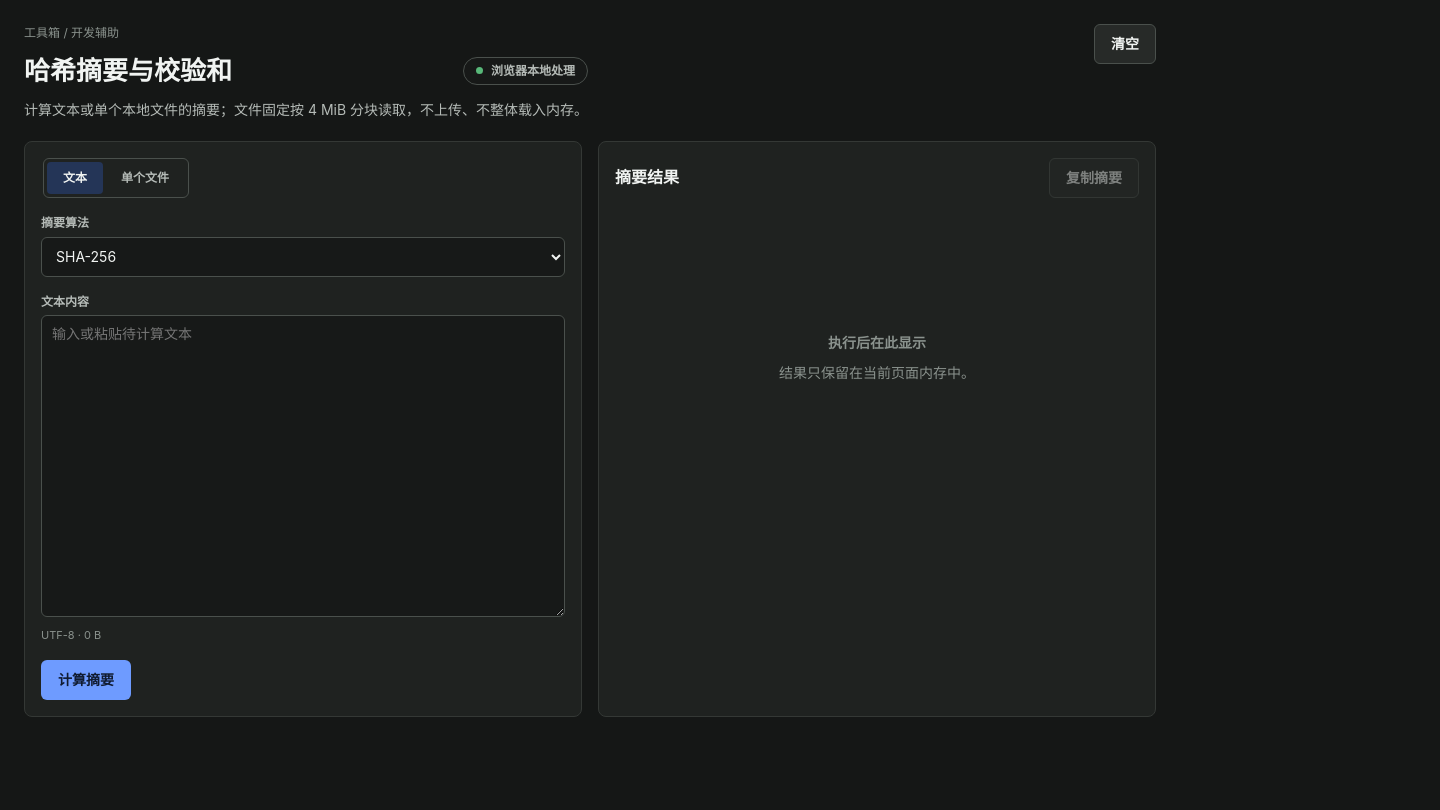
Scenario: DigestToolView keeps keyboard focus on the compute/cancel button › lets the same focused button cancel the run and keeps focus beside the cancel notice
In the text box with id "digest-text": (303,466) 41,315 -> 565,617, type "abc"
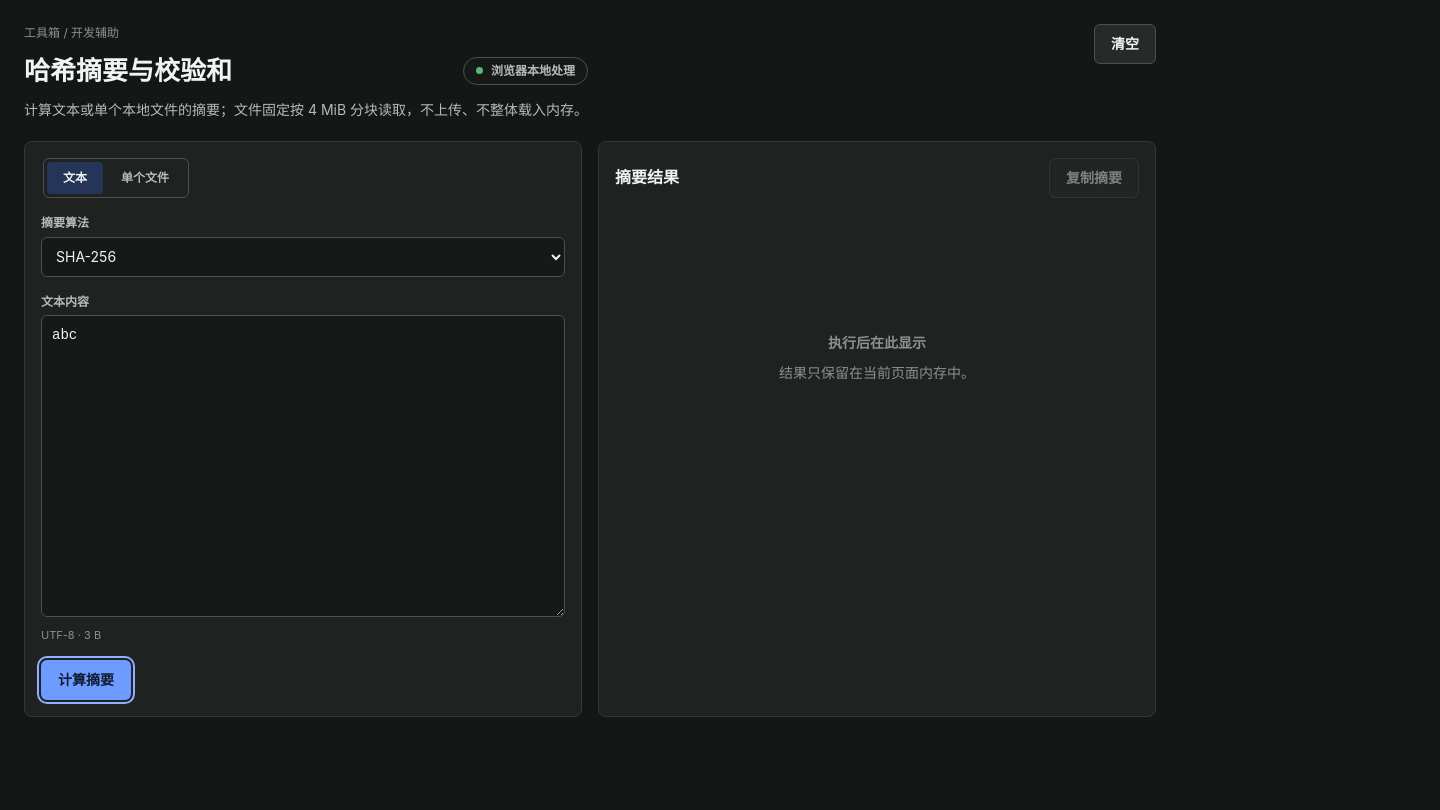
Click the button "计算摘要": (86,680) 41,660 -> 131,700
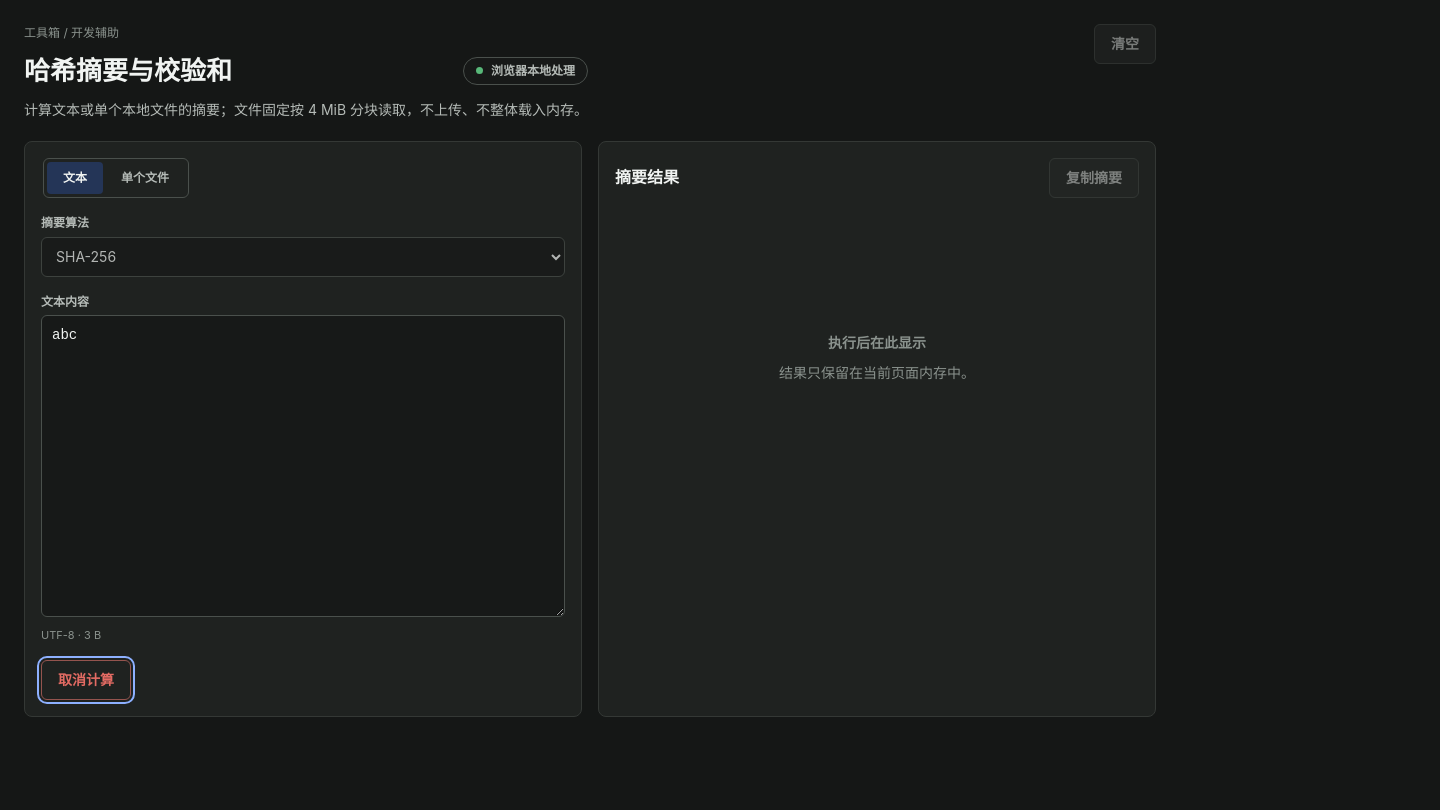
Now the button "取消计算" is shown
Click the button "取消计算": (86,680) 41,660 -> 131,700
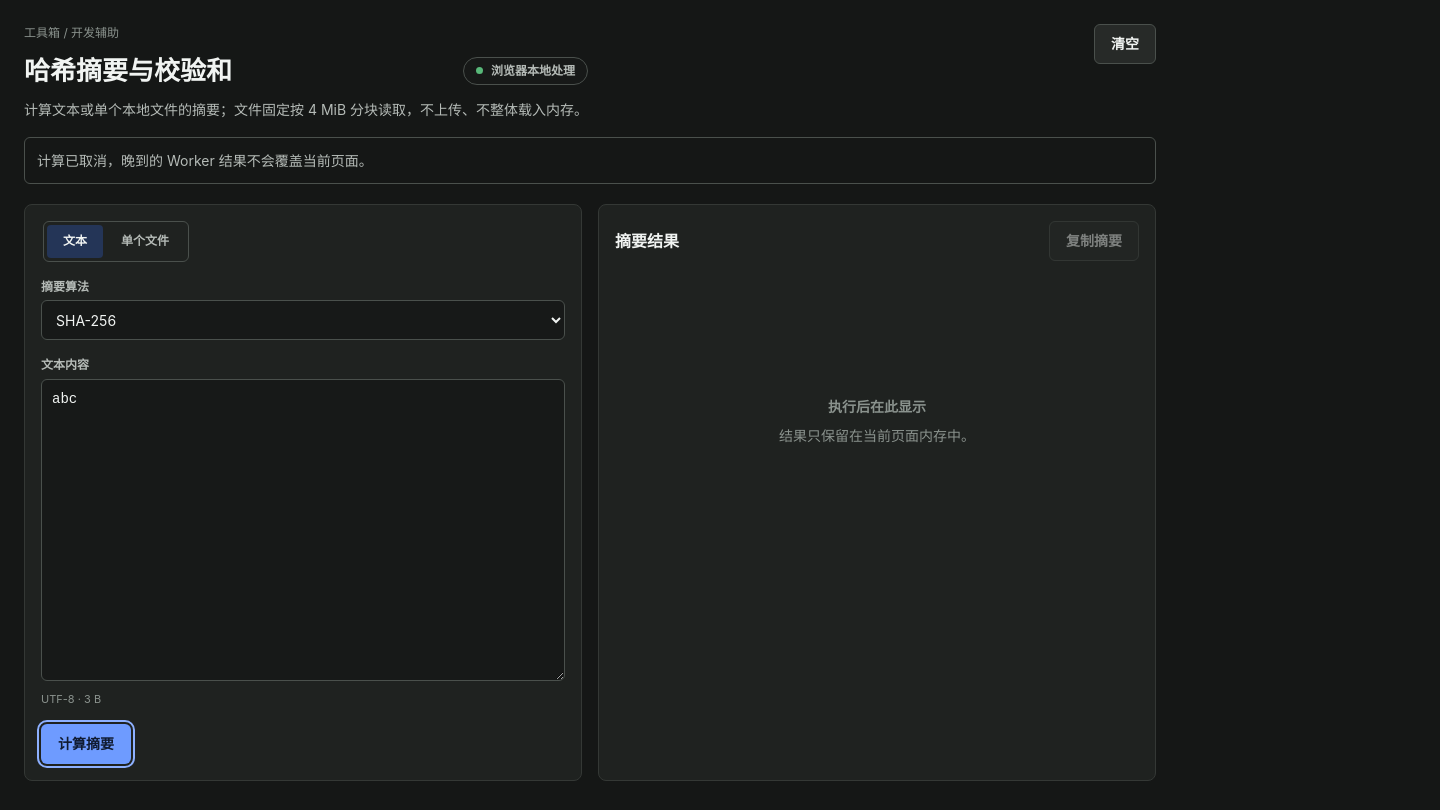
Now the text "计算已取消，晚到的 Worker 结果不会覆盖当前页面。" is shown, box 24,137 -> 1156,184
Now the button "计算摘要" is shown, box 41,724 -> 131,764
Now the text box with id "digest-text" is enabled, box 41,379 -> 565,681
